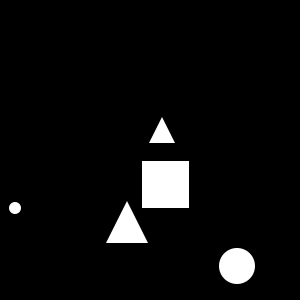circle: (142, 161, 189, 208)
rectangle: (219, 248, 255, 284), (9, 202, 21, 214)
triangle: (106, 201, 148, 243), (149, 117, 175, 143)
